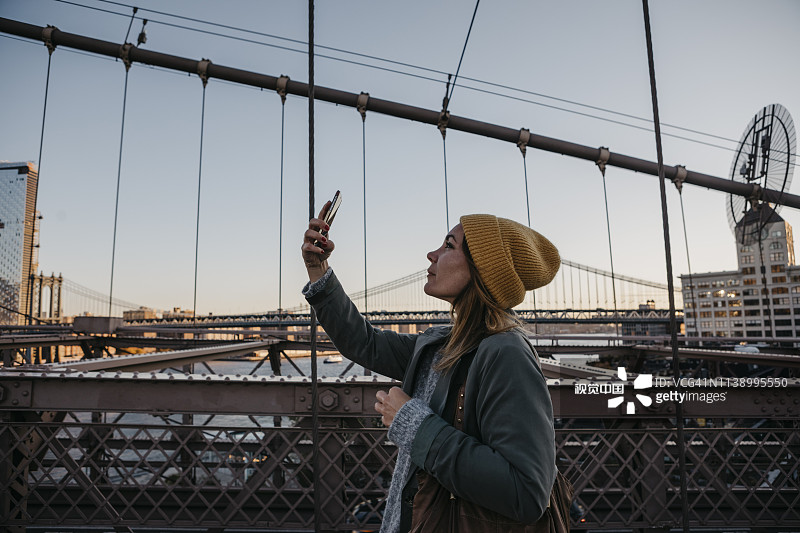taking photos: (292, 189, 361, 283)
